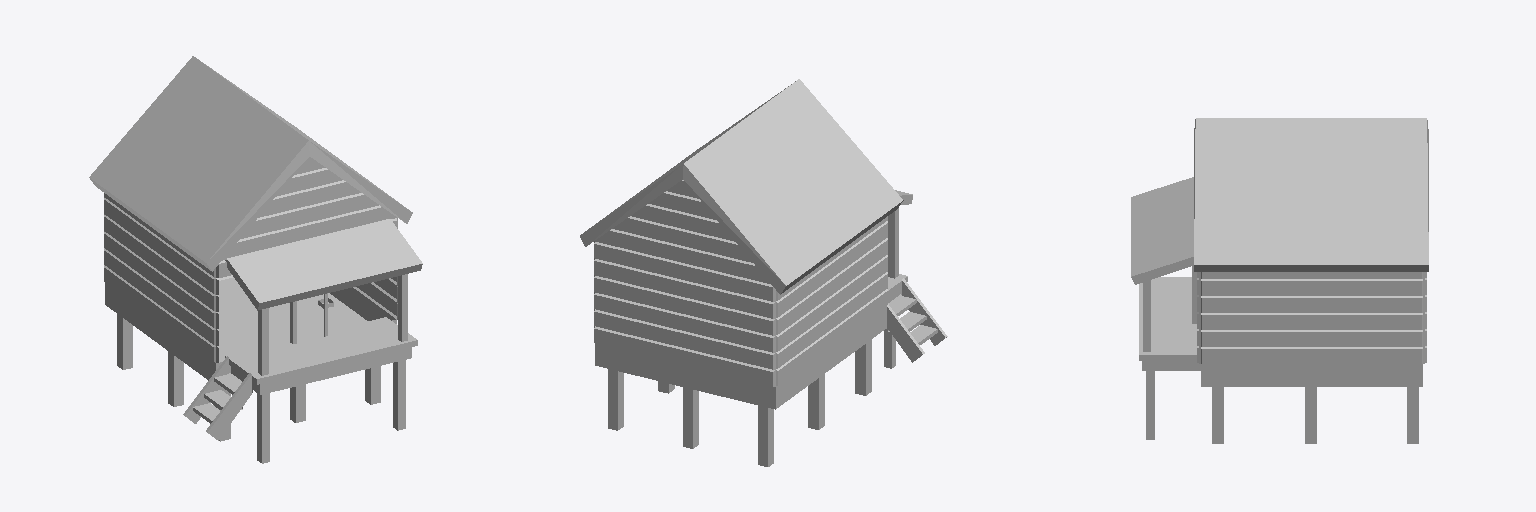
3 views of the same model, side by side, from view 1: azimuth 30°, elevation 25°; view 2: azimuth 150°, elevation 25°; view 3: azimuth 270°, elevation 25° (orthographic).
Visible parts, largest first — view 1: base 41; view 2: base 41; view 3: base 41.
Part boxes in pixels (left/top/right/bottom): base 41: left=89, top=56, right=422, bottom=463; base 41: left=580, top=79, right=947, bottom=466; base 41: left=1131, top=118, right=1428, bottom=443.
Size of the model in its own units: 7.28 by 8.76 by 8.22.